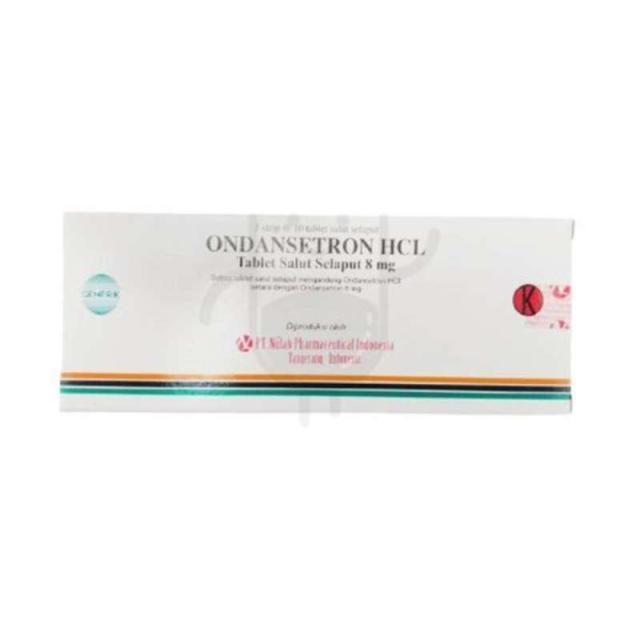drug-name: (203, 230, 376, 256)
